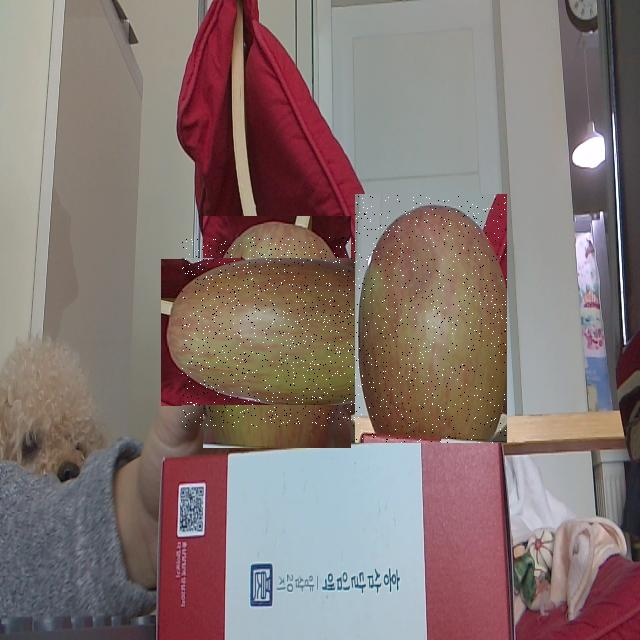apple: (355, 194, 507, 443), (182, 238, 372, 428)
